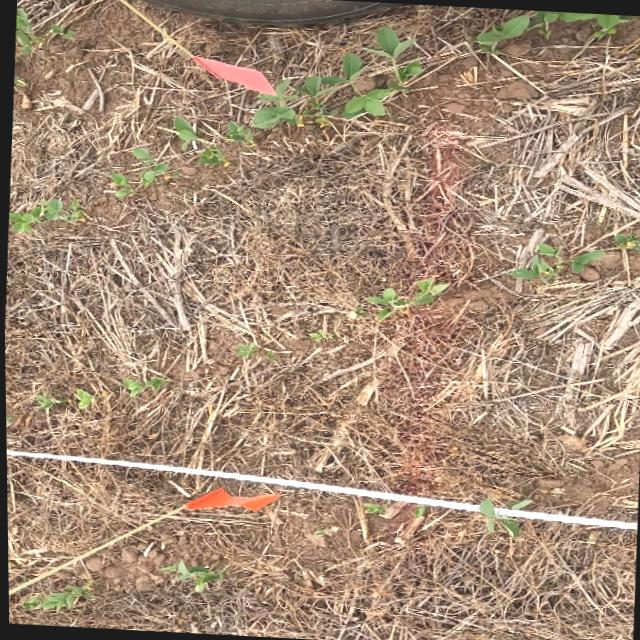soy_plant: (173, 27, 421, 165), (476, 11, 630, 52), (510, 244, 603, 283), (365, 278, 447, 322), (109, 147, 168, 199), (8, 198, 83, 233), (159, 560, 223, 592), (20, 585, 91, 611), (478, 500, 517, 537), (34, 388, 92, 410), (15, 8, 38, 55), (120, 377, 167, 396), (363, 503, 404, 519), (612, 233, 640, 249), (233, 342, 256, 358), (507, 499, 529, 510), (307, 330, 326, 342), (5, 417, 13, 423)
